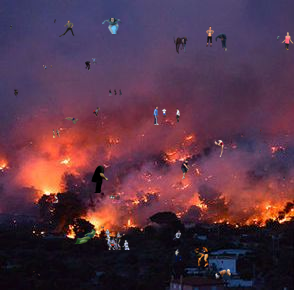Human: (59, 20, 91, 37), (105, 229, 130, 250), (153, 106, 180, 125), (169, 159, 192, 181), (91, 165, 109, 193), (173, 35, 199, 54), (190, 242, 209, 267), (102, 18, 123, 34), (74, 229, 96, 244), (53, 129, 84, 138), (173, 230, 195, 241), (281, 32, 294, 50), (215, 33, 227, 51), (239, 128, 262, 137), (214, 140, 224, 157), (206, 26, 214, 47), (215, 269, 231, 279), (60, 117, 79, 124), (101, 194, 120, 200), (175, 249, 183, 262), (109, 89, 122, 96), (93, 107, 100, 117), (12, 89, 19, 98), (85, 61, 91, 71), (32, 271, 40, 277), (43, 65, 52, 70), (53, 195, 58, 203), (92, 58, 97, 65), (277, 36, 280, 41), (54, 19, 57, 23), (283, 176, 285, 181), (10, 25, 12, 30), (259, 149, 261, 154), (101, 226, 104, 229)
